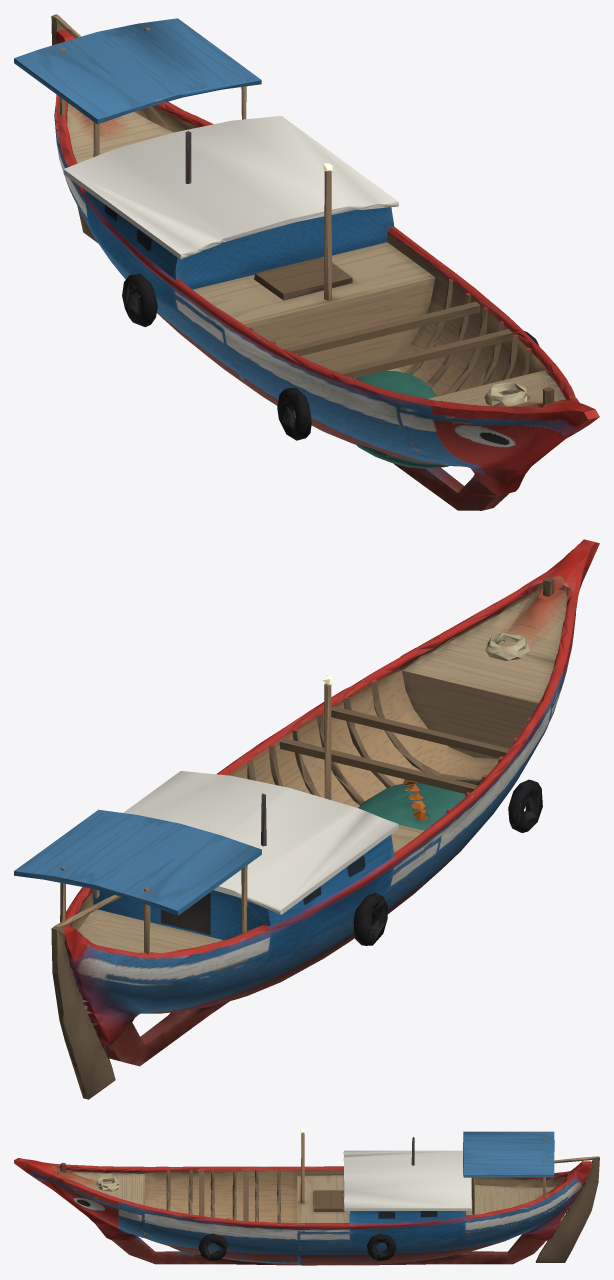
File: ghe_danh_ca_vung_tau.mid.glb
The picture shows the model from 3 angles, top to bottom: view 1: azimuth 30°, elevation 25°; view 2: azimuth 150°, elevation 25°; view 3: azimuth 270°, elevation 25°; orthographic projection. The views are drawn at different scales.
Parts seen in each view (by area): view 1: ghe_danh_ca_vung_tau; view 2: ghe_danh_ca_vung_tau; view 3: ghe_danh_ca_vung_tau.
Boxes of the visible parts, x1,y1,x2,y2 form: ghe_danh_ca_vung_tau: (14, 14, 599, 510); ghe_danh_ca_vung_tau: (14, 539, 599, 1099); ghe_danh_ca_vung_tau: (14, 1128, 599, 1265).
Bounding box in the file's own units: 2.92 × 2.84 × 11.14.
Materials: 1 (1 with a texture image).
